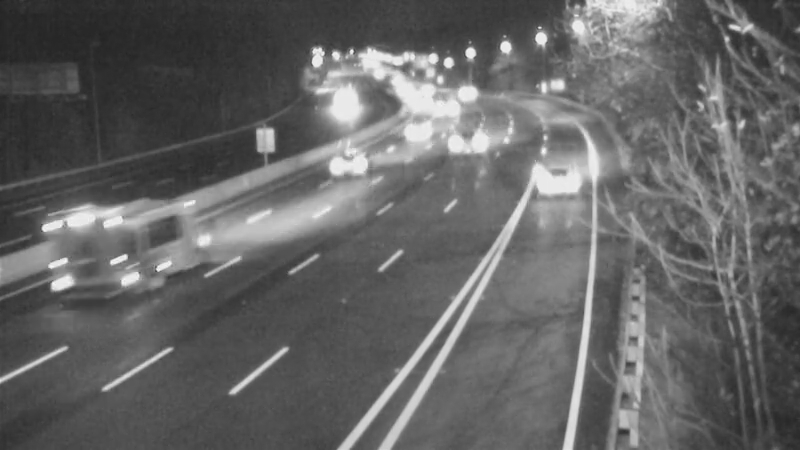vehicle: (320, 123, 400, 203), (524, 140, 604, 220), (54, 222, 134, 302), (442, 69, 492, 119), (399, 80, 449, 130), (423, 81, 473, 131), (394, 105, 444, 155), (447, 114, 497, 164), (315, 78, 365, 128)
